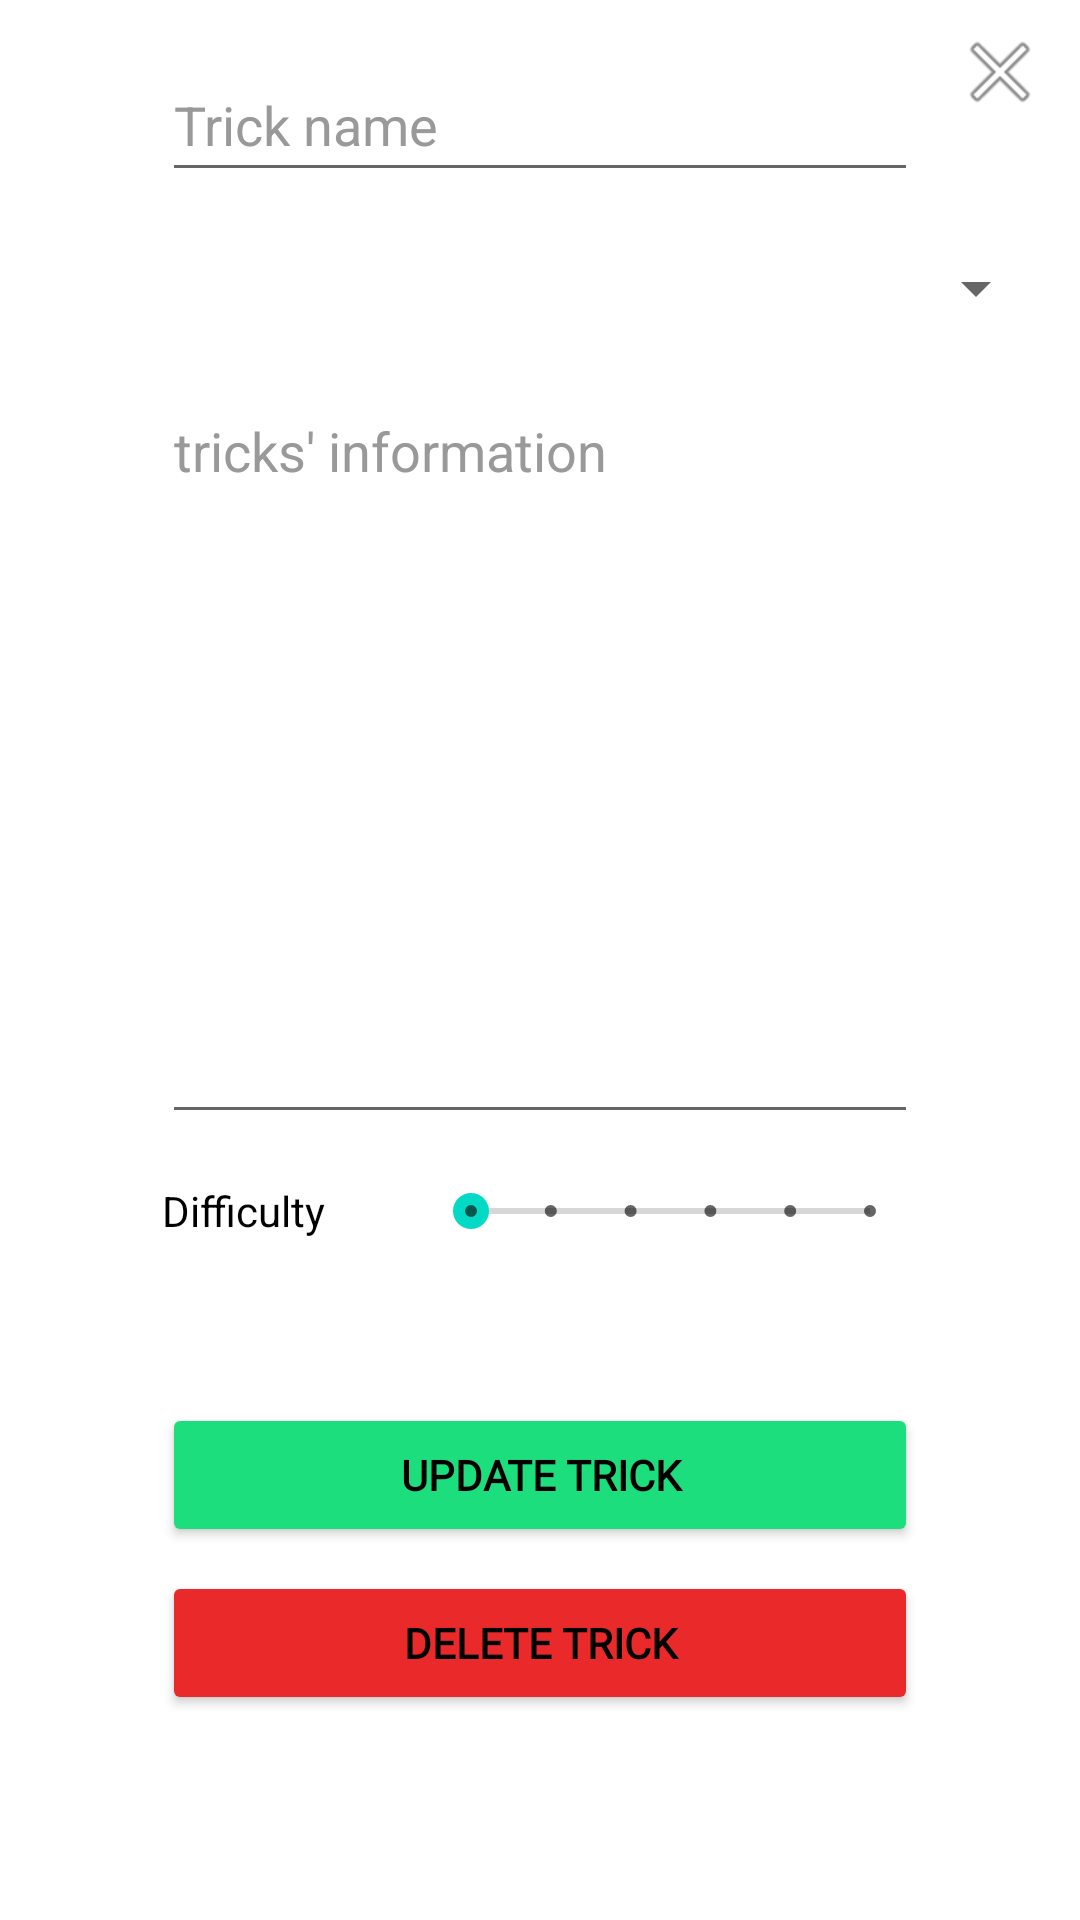

Where to tap for icons on this 1080px×1920px app screen, as point (x, y):
close clear cancel: point (1000, 72)
